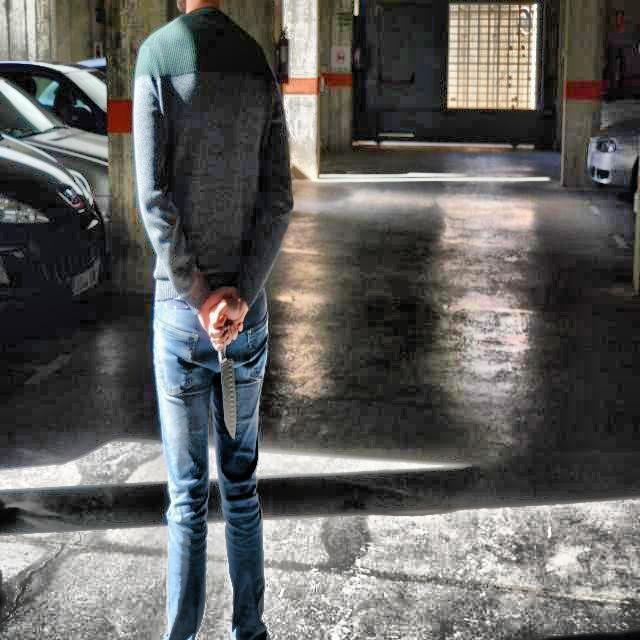knife: (218, 349, 238, 441)
